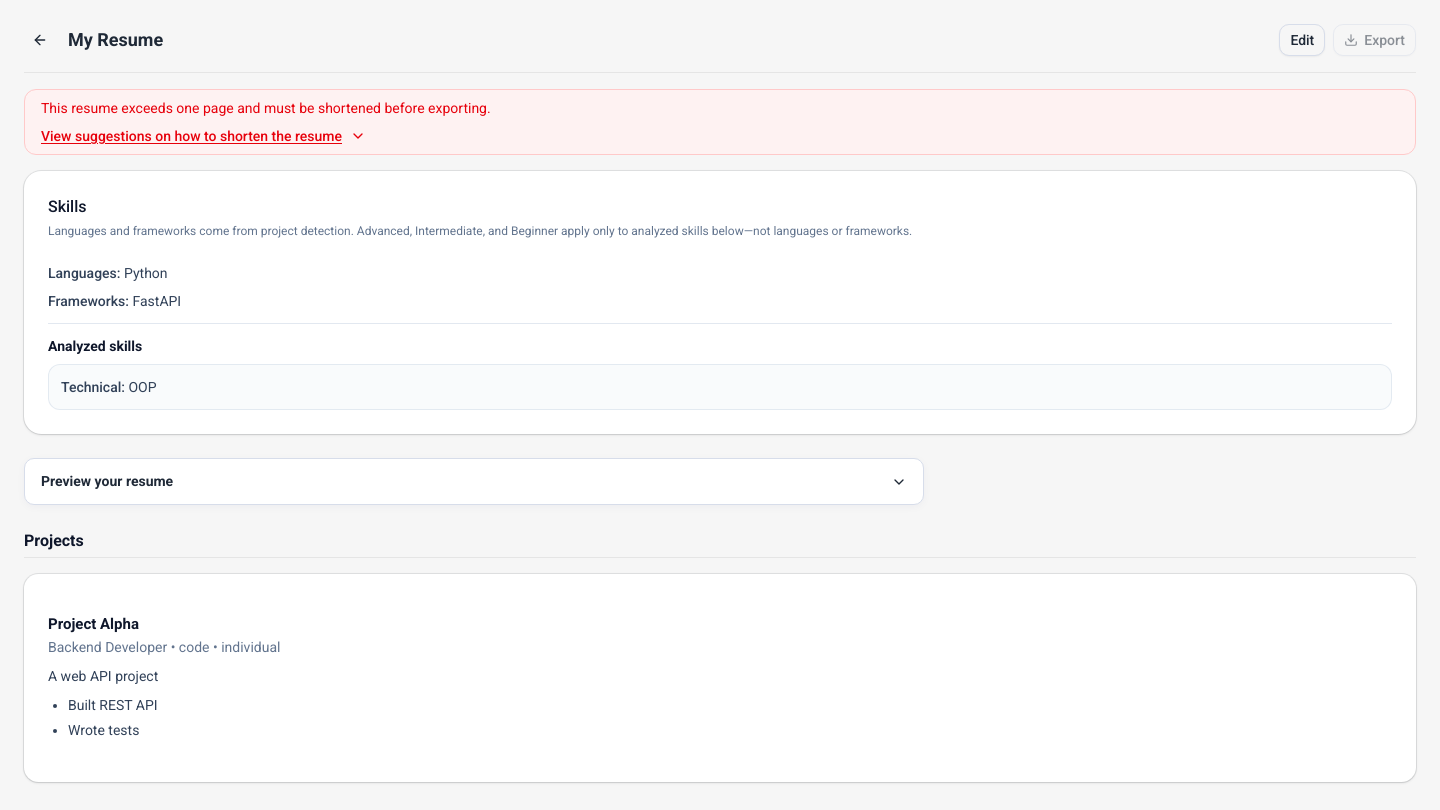
Test: ResumeDetail › view mode (default) › blocks export when backend says the resume exceeds one page
The width and height of the screenshot is (1440, 810).
expect the text "This resume exceeds one page and must be shortened before exporting." is shown: met, box [41,100,491,116]
expect the text "Only provide your best 2-3 projects." is not shown: met
Click the button "View suggestions on how to shorten the resume".
click(204, 136)  # box [41,126,366,146]
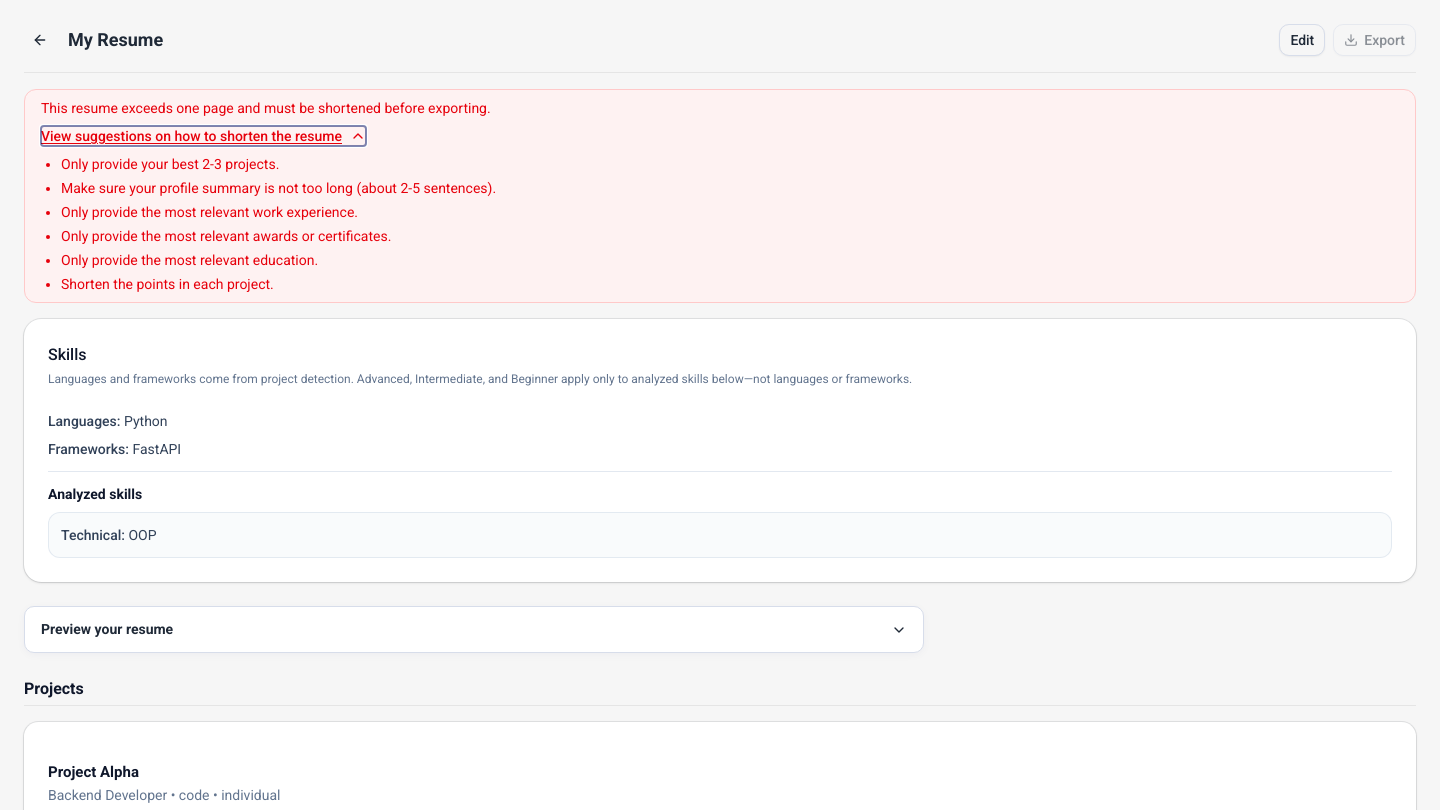
expect the button "Export" is disabled: met, box [1333,24,1416,56]
expect the list item "Only provide your best 2-3 projects." is shown: met, box [61,156,279,172]
